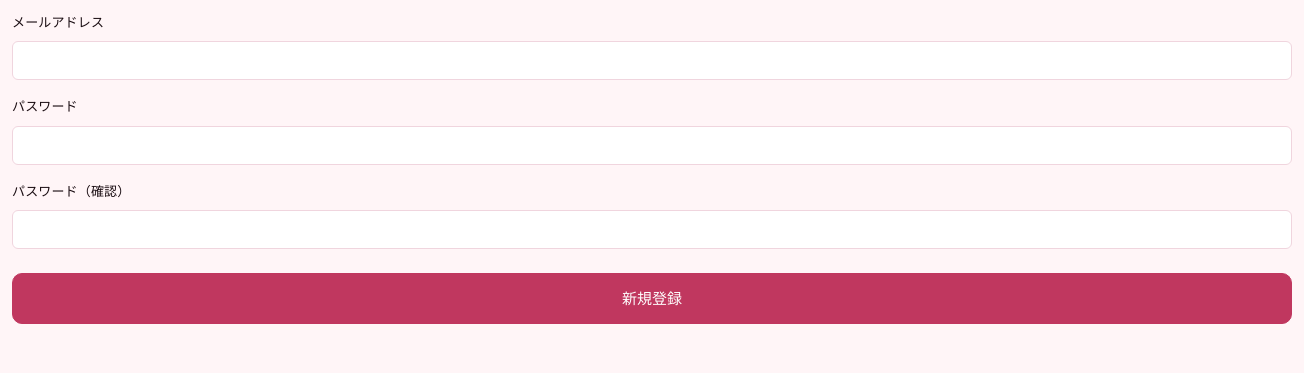
Test case: RegisterForm › パスワードが一致しない場合はAPIを呼ばない
Type "new@example.com" into the field labelled "メールアドレス" at (652, 61), box [12,41,1292,80]
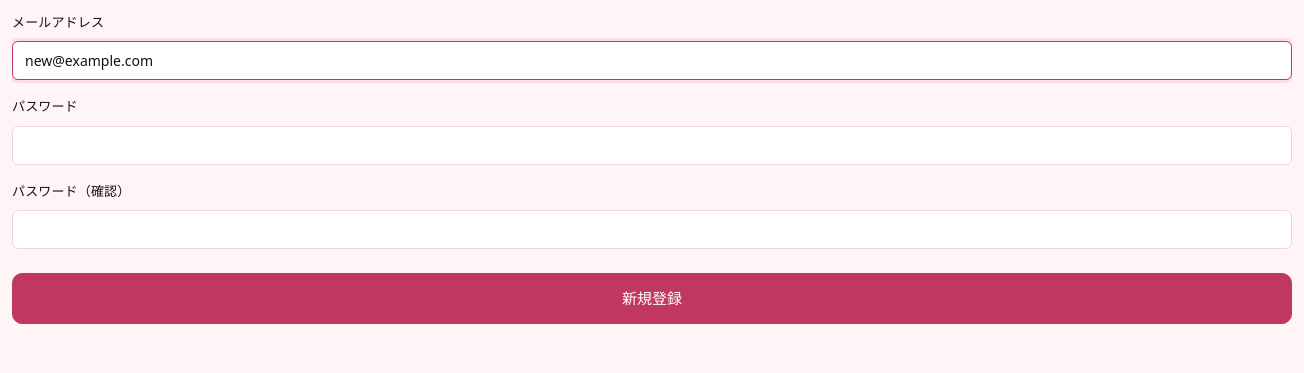
Type "password123" into the password field labelled "パスワード" at (652, 145), box [12,126,1292,165]
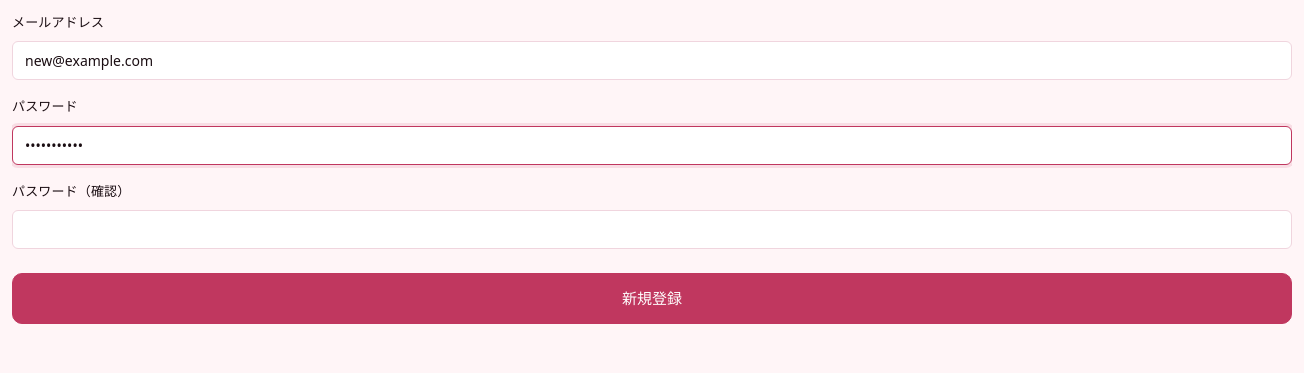
Type "different456" into the password field labelled "パスワード（確認）" at (652, 230), box [12,210,1292,249]
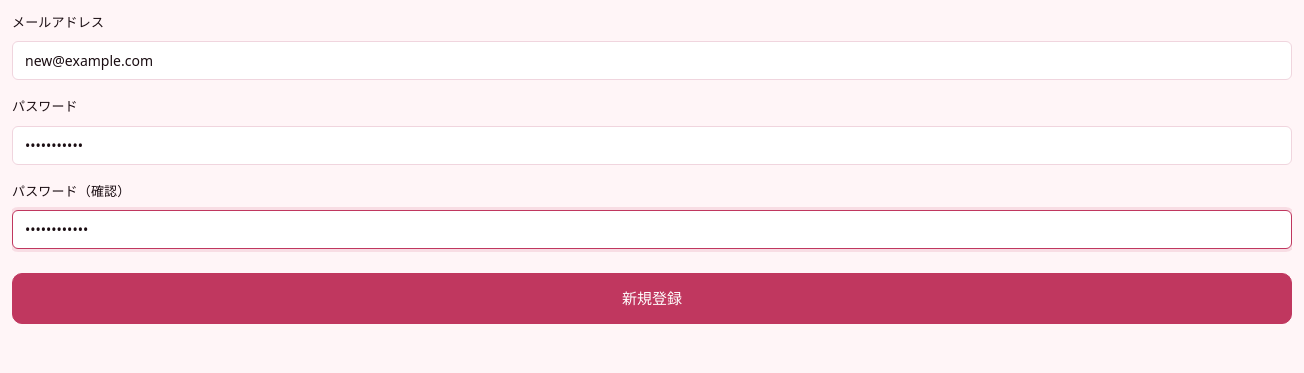
Click the button "新規登録" at (652, 299), box [12,273,1292,324]
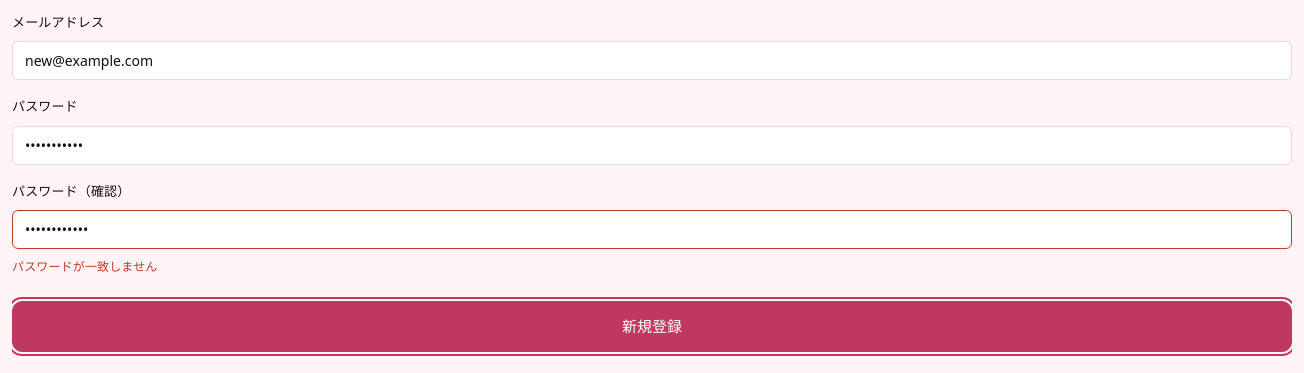
Result: the text "パスワードが一致しません" is shown at [12,258,158,275]
